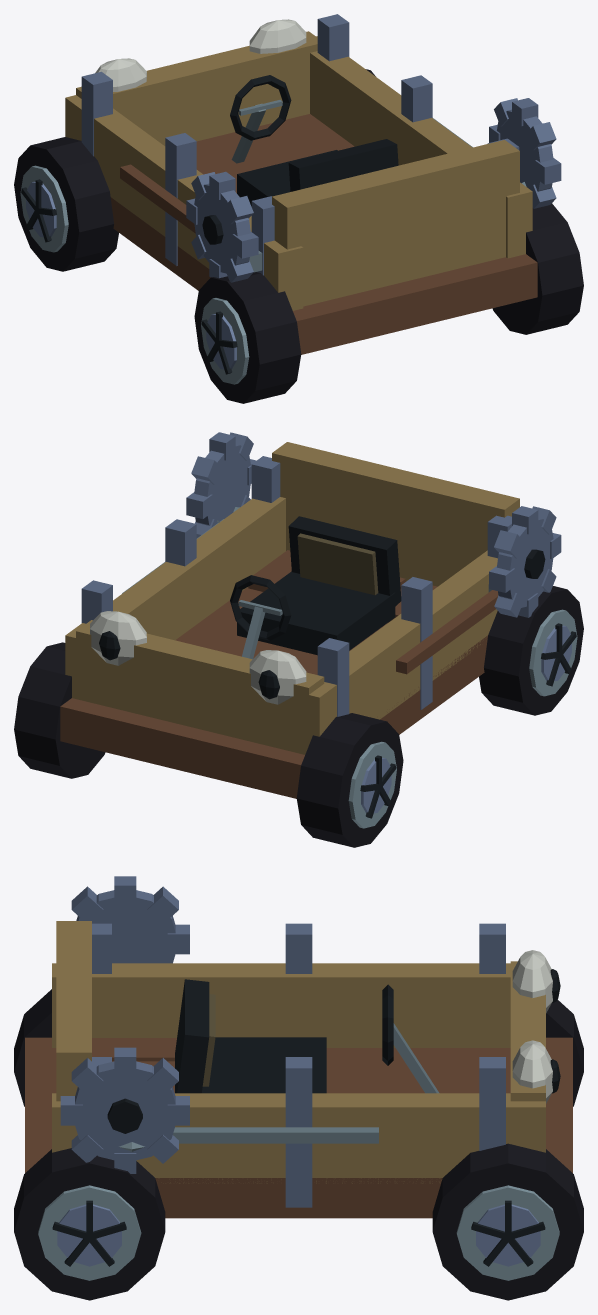
The model's file is kart.glb.
3 views of the same model, one above another, from view 1: azimuth 30°, elevation 25°; view 2: azimuth 150°, elevation 25°; view 3: azimuth 270°, elevation 25° (orthographic). The views are drawn at different scales.
Parts seen in each view (by area): view 1: identity-wagon-wagon-timber-coach, wheel-rear-left, wheel-front-left, identity-wagon-motif-gears, identity-wagon-driver-cockpit, wheel-rear-right, identity-wagon-motif-eyes, identity-wagon-motif-tools; view 2: identity-wagon-wagon-timber-coach, identity-wagon-driver-cockpit, wheel-front-left, identity-wagon-motif-gears, wheel-rear-left, wheel-front-right, identity-wagon-motif-eyes, identity-wagon-motif-tools; view 3: identity-wagon-wagon-timber-coach, wheel-front-right, wheel-rear-right, identity-wagon-motif-gears, identity-wagon-driver-cockpit, identity-wagon-motif-eyes, identity-wagon-motif-tools, wheel-rear-left, wheel-front-left.
Part boxes in pixels (<box>): identity-wagon-wagon-timber-coach: <box>65,14,537,354</box>; wheel-rear-left: <box>194,272,301,403</box>; wheel-front-left: <box>14,137,118,271</box>; identity-wagon-motif-gears: <box>186,98,561,282</box>; identity-wagon-driver-cockpit: <box>230,75,398,206</box>; wheel-rear-right: <box>492,203,583,334</box>; identity-wagon-motif-eyes: <box>95,19,306,91</box>; identity-wagon-motif-tools: <box>120,118,526,272</box>; identity-wagon-wagon-timber-coach: <box>60,442,519,798</box>; identity-wagon-driver-cockpit: <box>230,516,401,659</box>; wheel-front-left: <box>296,713,403,847</box>; identity-wagon-motif-gears: <box>186,432,561,617</box>; wheel-rear-left: <box>479,586,583,715</box>; wheel-front-right: <box>14,642,105,778</box>; identity-wagon-motif-eyes: <box>90,611,306,704</box>; identity-wagon-motif-tools: <box>122,507,498,674</box>; identity-wagon-wagon-timber-coach: <box>25,921,572,1218</box>; wheel-front-right: <box>432,1143,583,1300</box>; wheel-rear-right: <box>14,1148,165,1300</box>; identity-wagon-motif-gears: <box>60,876,189,1173</box>; identity-wagon-driver-cockpit: <box>175,979,439,1093</box>; identity-wagon-motif-eyes: <box>512,950,560,1103</box>; identity-wagon-motif-tools: <box>119,1127,378,1151</box>; wheel-rear-left: <box>14,989,51,1106</box>; wheel-front-left: <box>546,1000,583,1106</box>.
Size of the model in its own units: 2.07 by 1.2 by 2.56.
